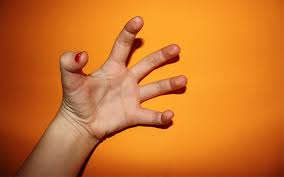palm: (82, 77, 143, 129)
